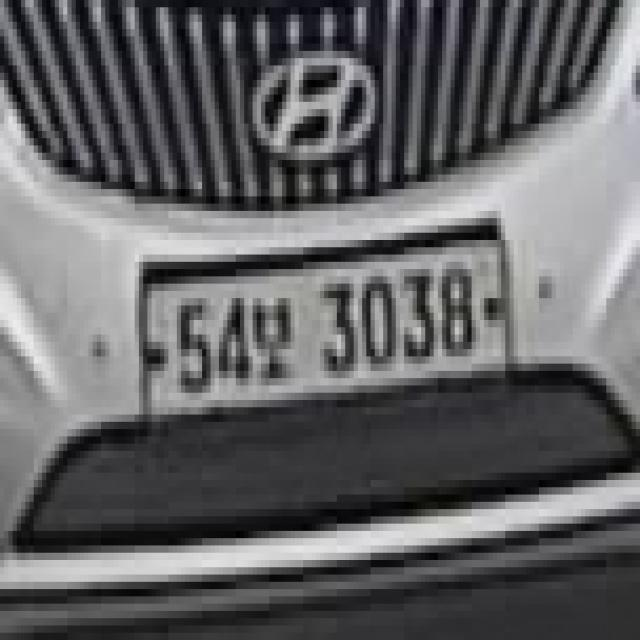0: (362, 254, 396, 386)
3: (307, 269, 358, 393), (404, 255, 438, 378)
4: (215, 269, 257, 393)
5: (168, 284, 210, 400)
8: (438, 247, 480, 378)
bo: (244, 276, 295, 393)
license_plate: (135, 233, 522, 436)
